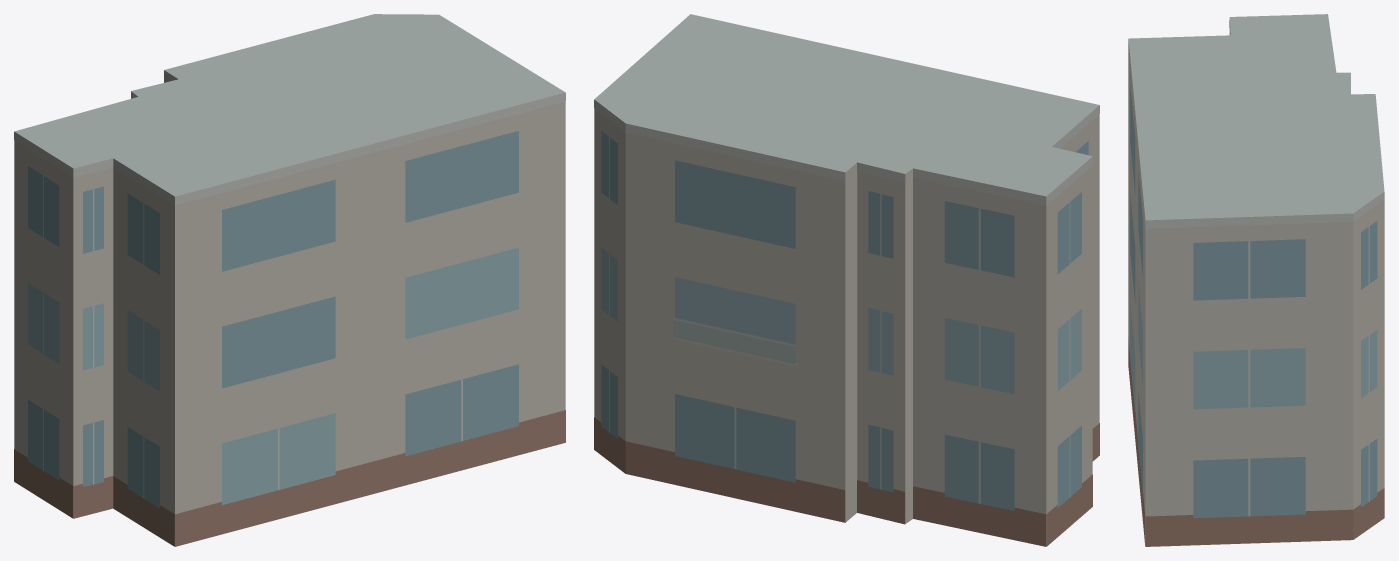
Rendered from survey-upis-32495813.glb.
3 renders of one model, left to right at view 1: azimuth 30°, elevation 25°; view 2: azimuth 150°, elevation 25°; view 3: azimuth 270°, elevation 25°, orthographic. The views are drawn at different scales.
Parts seen in each view (by area): view 1: survey-upis-32495813.tmp; view 2: survey-upis-32495813.tmp; view 3: survey-upis-32495813.tmp.
Part boxes in pixels (x1=…): survey-upis-32495813.tmp: x1=14, y1=14, x2=565, y2=546; survey-upis-32495813.tmp: x1=594, y1=14, x2=1099, y2=546; survey-upis-32495813.tmp: x1=1128, y1=14, x2=1384, y2=546.
Bounding box in the file's own units: 12.89 × 9.5 × 6.76.
